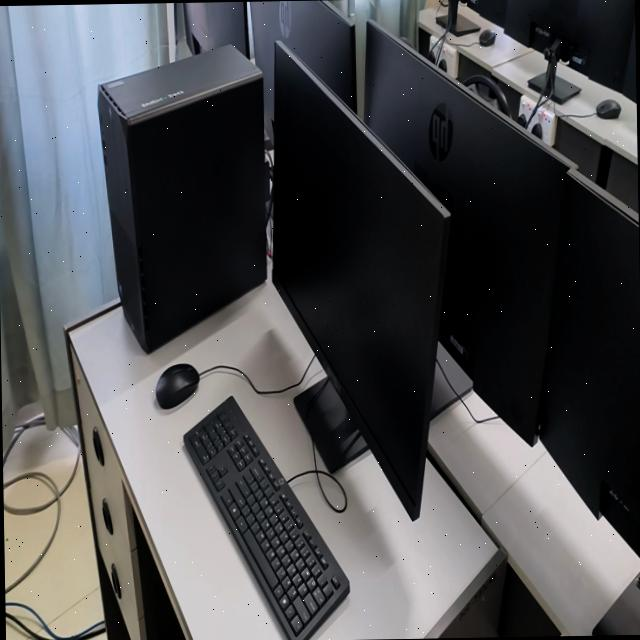Cpu: (98, 45, 268, 352)
Keyboard: (183, 398, 349, 640)
Light: (183, 396, 349, 640)
Monitor: (364, 23, 567, 444), (272, 41, 449, 520), (539, 172, 640, 556), (251, 0, 356, 141), (501, 0, 635, 90), (184, 1, 250, 57), (467, 0, 507, 24)
Mouse: (155, 363, 199, 409), (596, 99, 621, 118), (479, 29, 496, 45)
